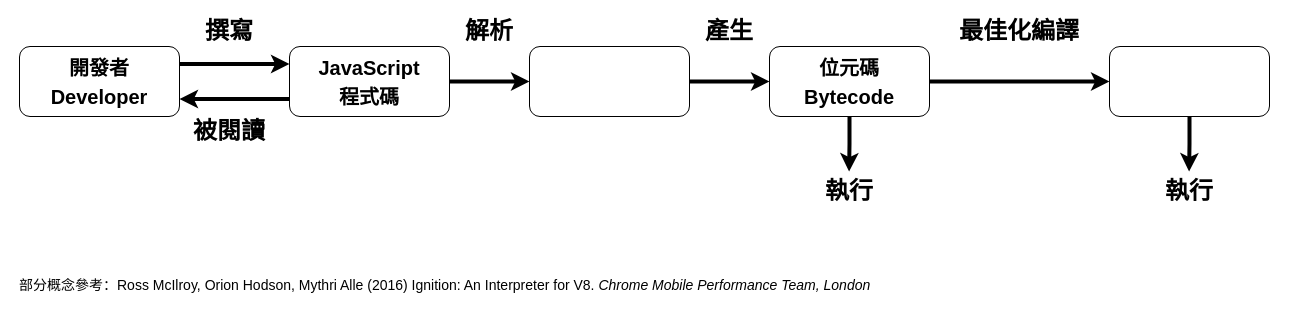
Some shapes in this 1289 by 315 pixel diagram are drawn without their labels. The centre of each missing label's shape, as x and y in pixels:
"抽象語法樹 AST" goes at (x=609, y=81).
"機械碼 Machine Code" goes at (x=1189, y=81).
